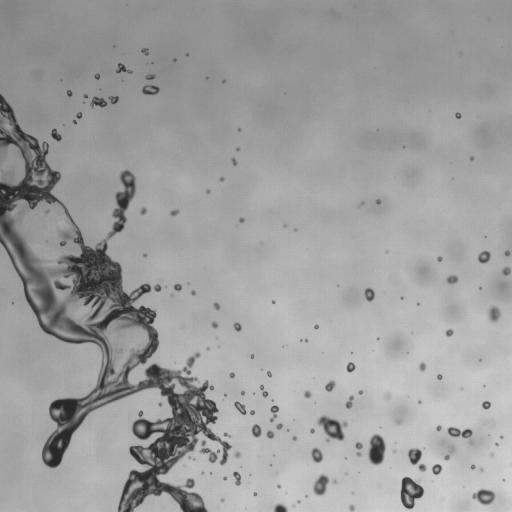droplet: (317, 415, 348, 441), (400, 476, 423, 509), (367, 434, 385, 465), (472, 488, 495, 505), (313, 474, 329, 495), (487, 305, 501, 322), (90, 96, 107, 107), (142, 85, 159, 95), (477, 250, 490, 263), (311, 448, 323, 462), (234, 402, 247, 414), (116, 63, 131, 73), (51, 128, 61, 141), (364, 288, 374, 301), (251, 424, 261, 437), (273, 503, 287, 511), (325, 380, 335, 391), (446, 275, 458, 284), (432, 464, 442, 474), (346, 362, 355, 372), (502, 267, 511, 275), (173, 283, 182, 291), (233, 322, 241, 331), (482, 401, 490, 409), (266, 430, 274, 438), (109, 96, 118, 103), (419, 362, 426, 371), (213, 302, 220, 310), (445, 329, 453, 336), (304, 390, 311, 398), (384, 392, 391, 400), (170, 209, 179, 215), (145, 74, 155, 79), (141, 48, 148, 55), (211, 321, 218, 328), (234, 451, 241, 458), (231, 158, 237, 165), (140, 207, 146, 214), (76, 112, 82, 118), (276, 423, 282, 429), (349, 504, 354, 511), (94, 73, 99, 79), (67, 90, 72, 96), (229, 372, 234, 378), (395, 419, 401, 424), (436, 425, 441, 431), (455, 113, 460, 118), (44, 209, 49, 214), (239, 217, 244, 222), (437, 256, 442, 261), (190, 290, 195, 295), (437, 374, 442, 379), (504, 251, 510, 255), (219, 177, 224, 181), (376, 199, 380, 204), (314, 324, 318, 329), (267, 371, 271, 376), (358, 390, 363, 394), (249, 410, 254, 414), (310, 428, 314, 433), (471, 464, 475, 469), (470, 156, 474, 160), (206, 189, 210, 193), (143, 253, 147, 257), (158, 402, 162, 406), (292, 436, 296, 440), (489, 453, 493, 457), (84, 94, 87, 98), (251, 354, 254, 358), (188, 456, 192, 459), (223, 476, 226, 480), (333, 479, 336, 483), (277, 484, 280, 488), (73, 120, 76, 123), (360, 202, 363, 205), (241, 391, 244, 394), (469, 441, 472, 444), (495, 442, 498, 445), (253, 492, 256, 495), (303, 339, 307, 341), (238, 128, 240, 131), (236, 148, 239, 150), (207, 347, 209, 350), (418, 401, 421, 403), (500, 436, 503, 438), (480, 468, 482, 471), (221, 498, 223, 501), (297, 500, 299, 503), (294, 229, 296, 231), (478, 287, 480, 289), (170, 294, 172, 296), (486, 422, 488, 424), (393, 450, 395, 452), (345, 473, 347, 475), (293, 504, 295, 506)
ligament: (0, 94, 227, 511), (408, 448, 426, 471), (447, 427, 472, 438), (443, 445, 455, 460), (269, 405, 278, 422), (355, 442, 363, 456), (345, 395, 353, 408), (233, 471, 240, 485), (260, 385, 267, 396), (223, 433, 231, 437)
